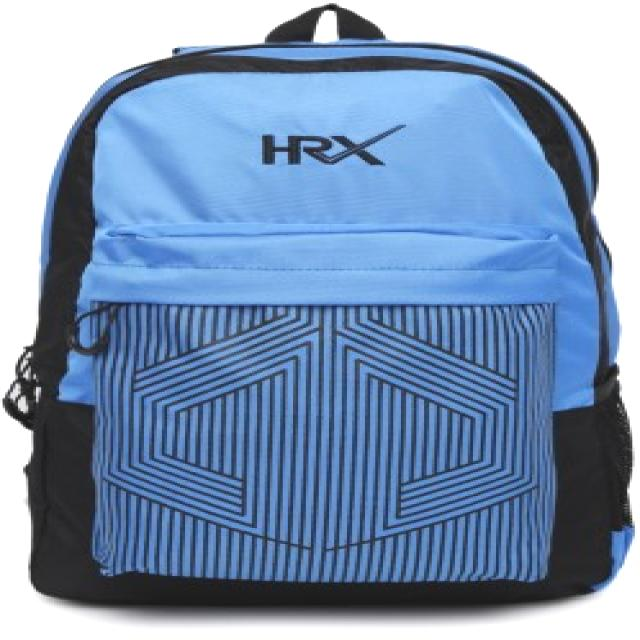backpack: (4, 3, 636, 608)
